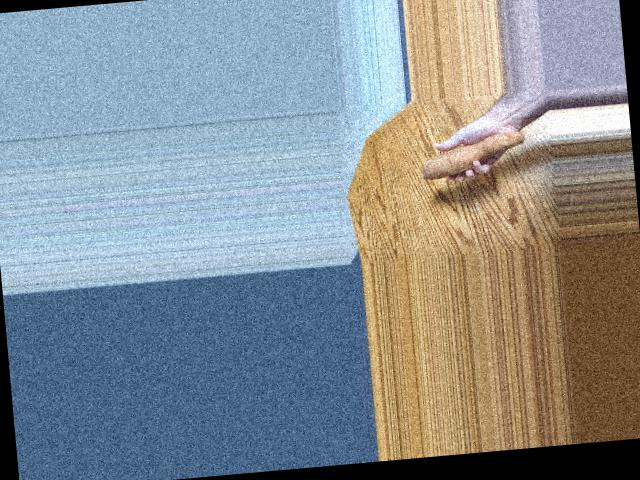sweet_potato: (418, 129, 538, 184)
